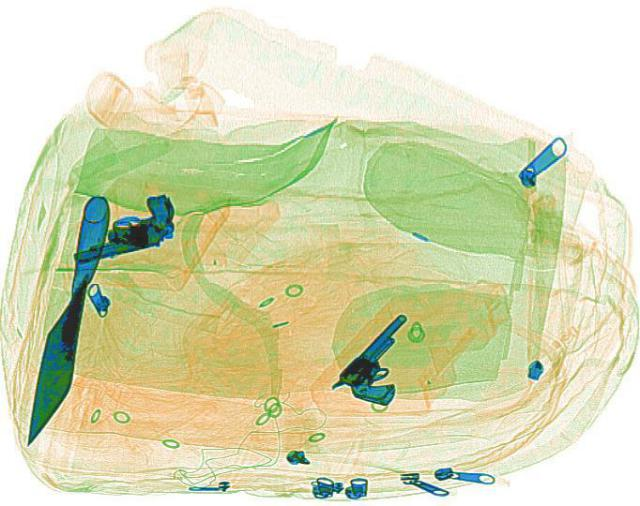Gun: (325, 310, 451, 409), (54, 190, 188, 264)
Knife: (8, 193, 128, 447)
